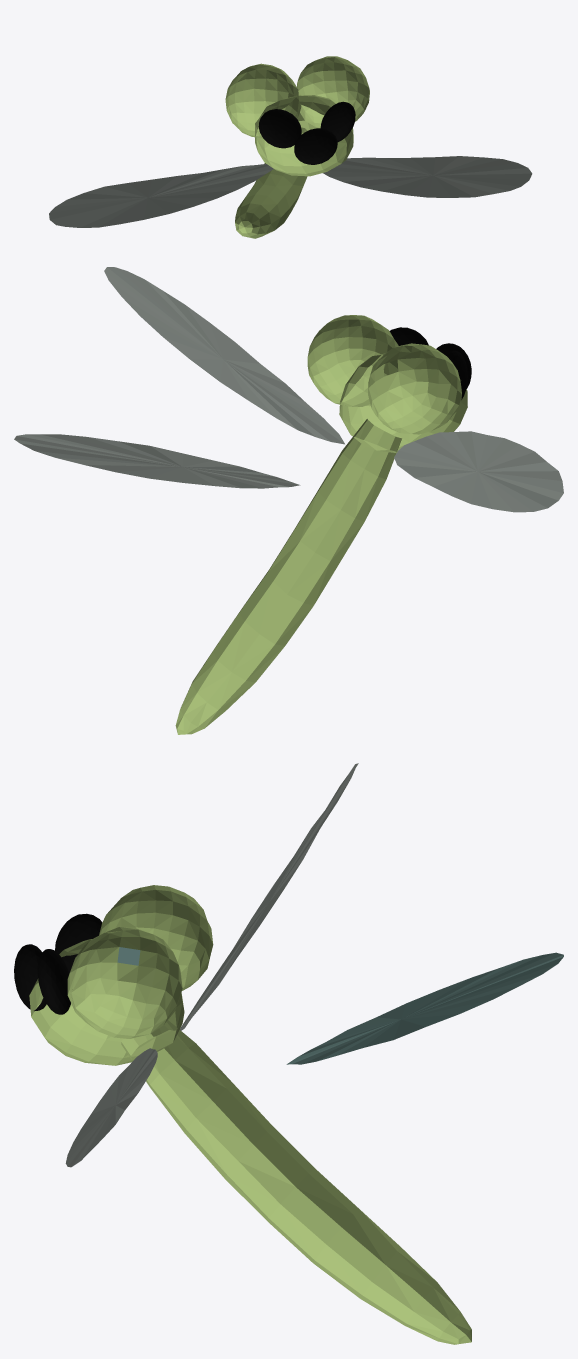
File: tonbo.glb
The picture shows the model from 3 angles, top to bottom: view 1: azimuth 30°, elevation 25°; view 2: azimuth 150°, elevation 25°; view 3: azimuth 270°, elevation 25°; orthographic projection. The views are drawn at different scales.
Visible parts, largest first — view 1: geometry_0; view 2: geometry_0; view 3: geometry_0.
Part boxes in pixels (x1,y1,x2,y2): geometry_0: (49,56,532,238); geometry_0: (14,267,563,734); geometry_0: (14,763,563,1344).
Size of the model in its own units: 0.2041 by 0.1123 by 0.1401.
